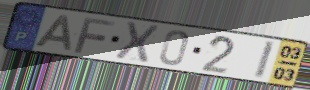0: (158, 29, 191, 66)
2: (198, 34, 238, 75)
A: (33, 13, 74, 52)
F: (72, 16, 118, 55)
I: (252, 39, 278, 80)
X: (112, 20, 161, 64)
